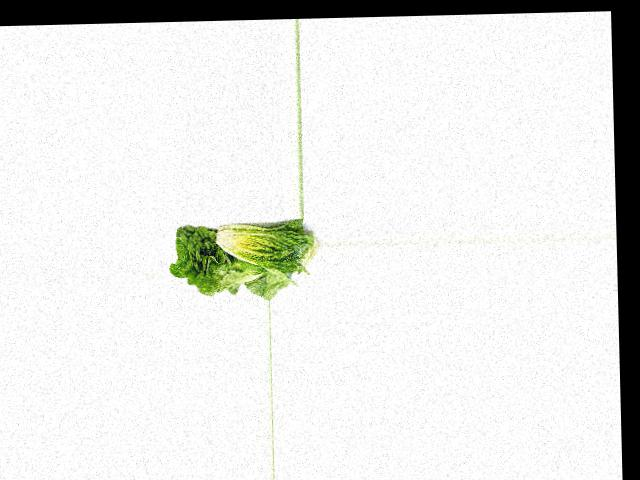lettuce: (171, 218, 260, 296)
